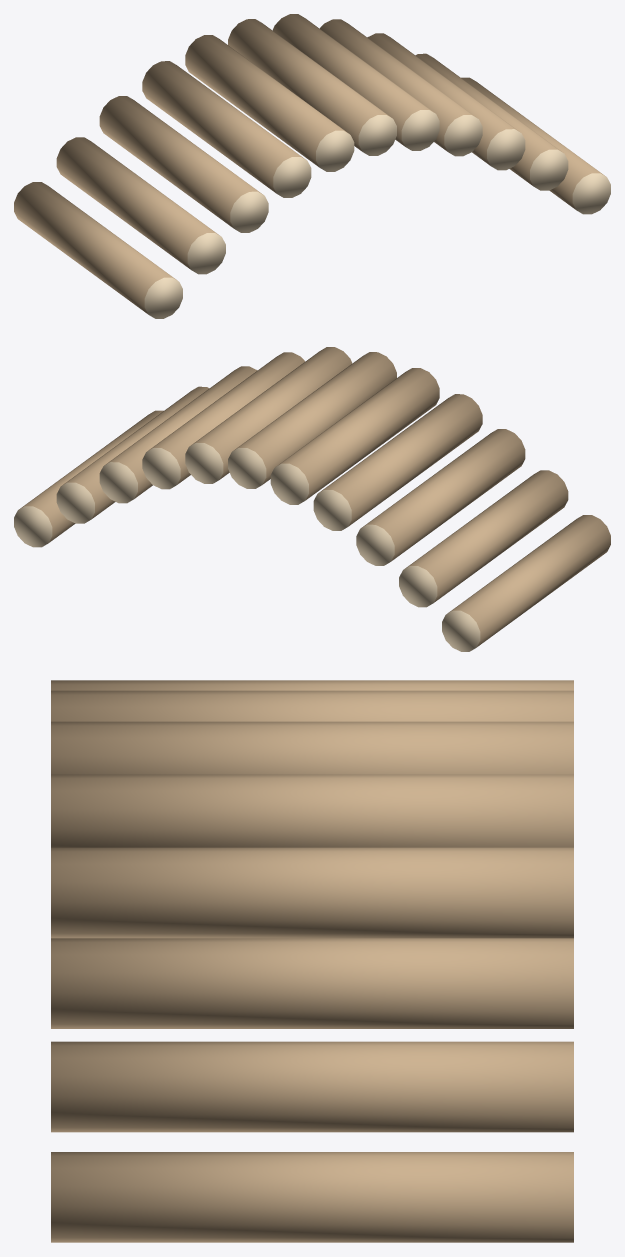
The model's file is prop_bridge_ramp.glb.
The picture shows the model from 3 angles, top to bottom: view 1: azimuth 30°, elevation 25°; view 2: azimuth 150°, elevation 25°; view 3: azimuth 270°, elevation 25°; orthographic projection. The views are drawn at different scales.
Parts seen in each view (by area): view 1: prop_bridge_log_01, prop_bridge_log_04, prop_bridge_log_02, prop_bridge_log_03, prop_bridge_log_00, prop_bridge_log_05, prop_bridge_log_06, prop_bridge_log_07, prop_bridge_log_08, prop_bridge_log_09, prop_bridge_log_10; view 2: prop_bridge_log_01, prop_bridge_log_04, prop_bridge_log_02, prop_bridge_log_03, prop_bridge_log_00, prop_bridge_log_05, prop_bridge_log_06, prop_bridge_log_07, prop_bridge_log_08, prop_bridge_log_09, prop_bridge_log_10; view 3: prop_bridge_log_07, prop_bridge_log_09, prop_bridge_log_08, prop_bridge_log_10, prop_bridge_log_06, prop_bridge_log_05, prop_bridge_log_04, prop_bridge_log_03.
Boxes of the visible parts, box(x1,y1,x2,y2) form: prop_bridge_log_01: box(56, 137, 225, 274); prop_bridge_log_04: box(185, 35, 354, 171); prop_bridge_log_02: box(99, 96, 268, 232); prop_bridge_log_03: box(142, 61, 311, 197); prop_bridge_log_00: box(14, 182, 182, 318); prop_bridge_log_05: box(228, 19, 396, 155); prop_bridge_log_06: box(272, 14, 439, 150); prop_bridge_log_07: box(320, 19, 482, 156); prop_bridge_log_08: box(367, 33, 525, 170); prop_bridge_log_09: box(415, 53, 568, 190); prop_bridge_log_10: box(461, 77, 610, 214); prop_bridge_log_01: box(399, 470, 568, 607); prop_bridge_log_04: box(270, 368, 439, 504); prop_bridge_log_02: box(356, 429, 525, 565); prop_bridge_log_03: box(313, 394, 482, 530); prop_bridge_log_00: box(442, 515, 610, 651); prop_bridge_log_05: box(228, 352, 396, 488); prop_bridge_log_06: box(185, 347, 352, 483); prop_bridge_log_07: box(142, 352, 304, 489); prop_bridge_log_08: box(99, 366, 257, 503); prop_bridge_log_09: box(56, 386, 209, 523); prop_bridge_log_10: box(14, 410, 163, 547); prop_bridge_log_07: box(51, 847, 573, 938); prop_bridge_log_09: box(51, 1041, 573, 1132); prop_bridge_log_08: box(51, 938, 573, 1028); prop_bridge_log_10: box(51, 1152, 573, 1242); prop_bridge_log_06: box(51, 774, 573, 847); prop_bridge_log_05: box(51, 721, 573, 774); prop_bridge_log_04: box(51, 690, 573, 721); prop_bridge_log_03: box(51, 680, 573, 690).
Bounding box in the file's own units: 0.1852 × 0.0576 × 0.09.
